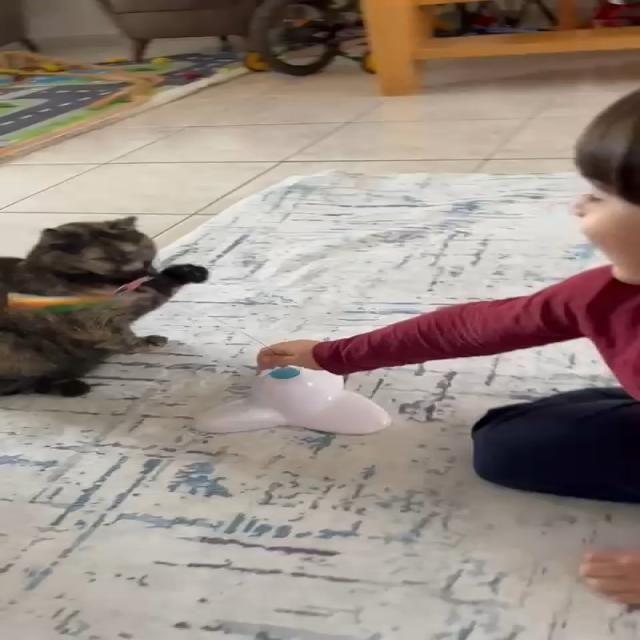authorized: (0, 215, 208, 398)
